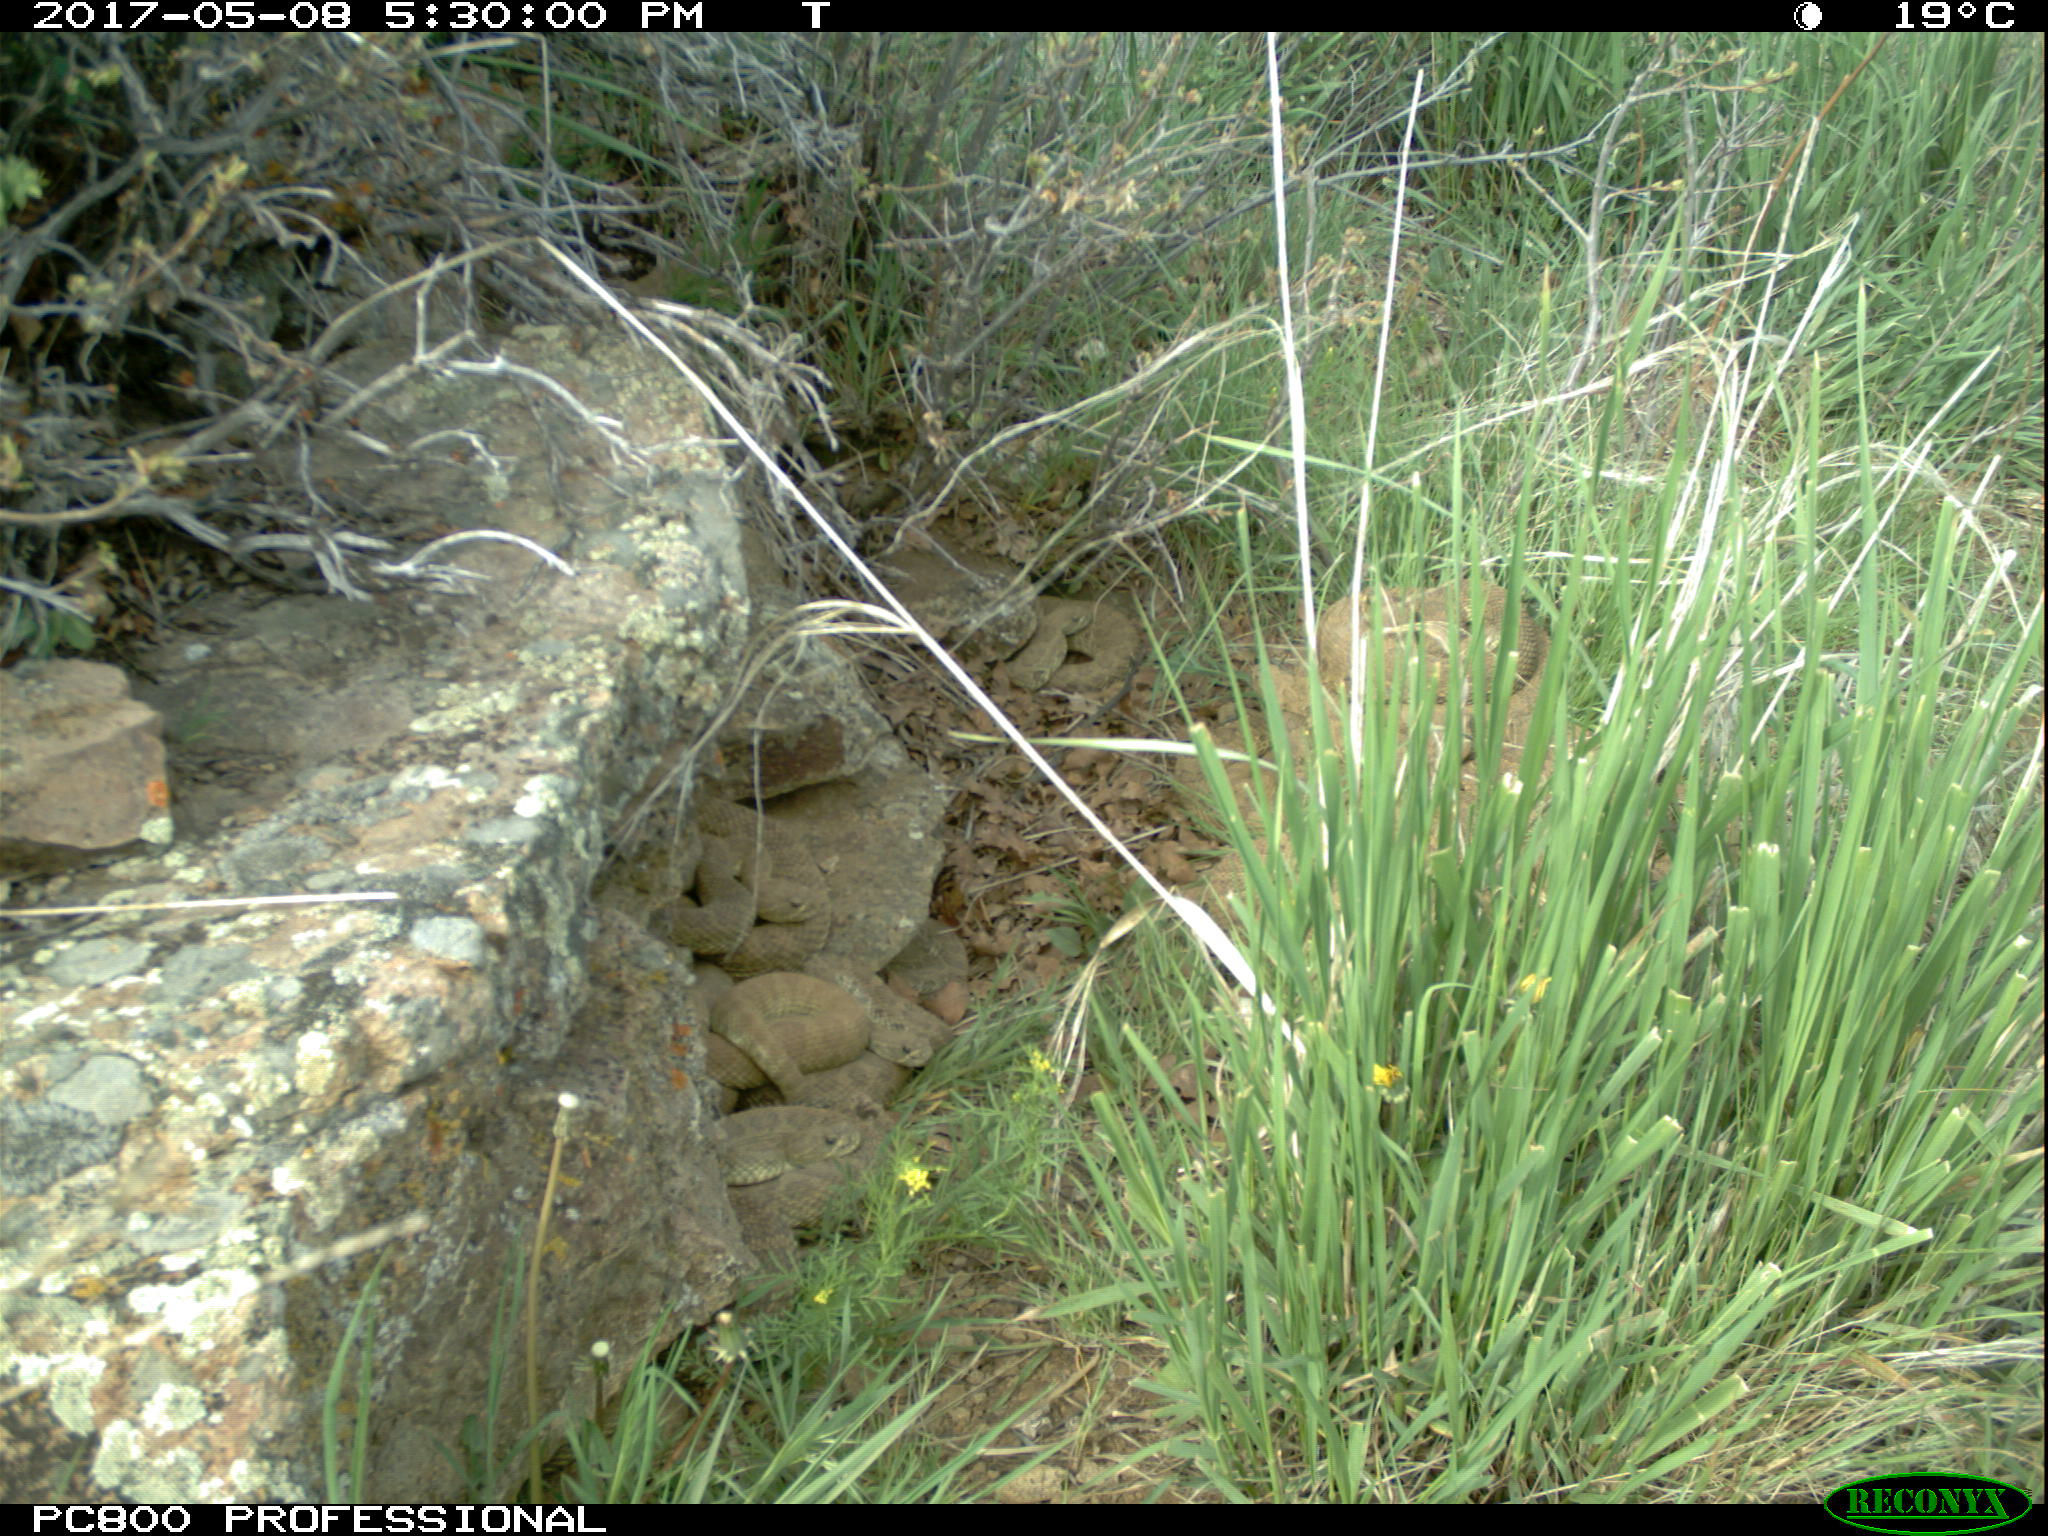snake: (1179, 666, 1545, 824), (705, 970, 955, 1099), (663, 803, 832, 963), (1319, 576, 1532, 695), (713, 1099, 885, 1239), (1014, 586, 1156, 695)
